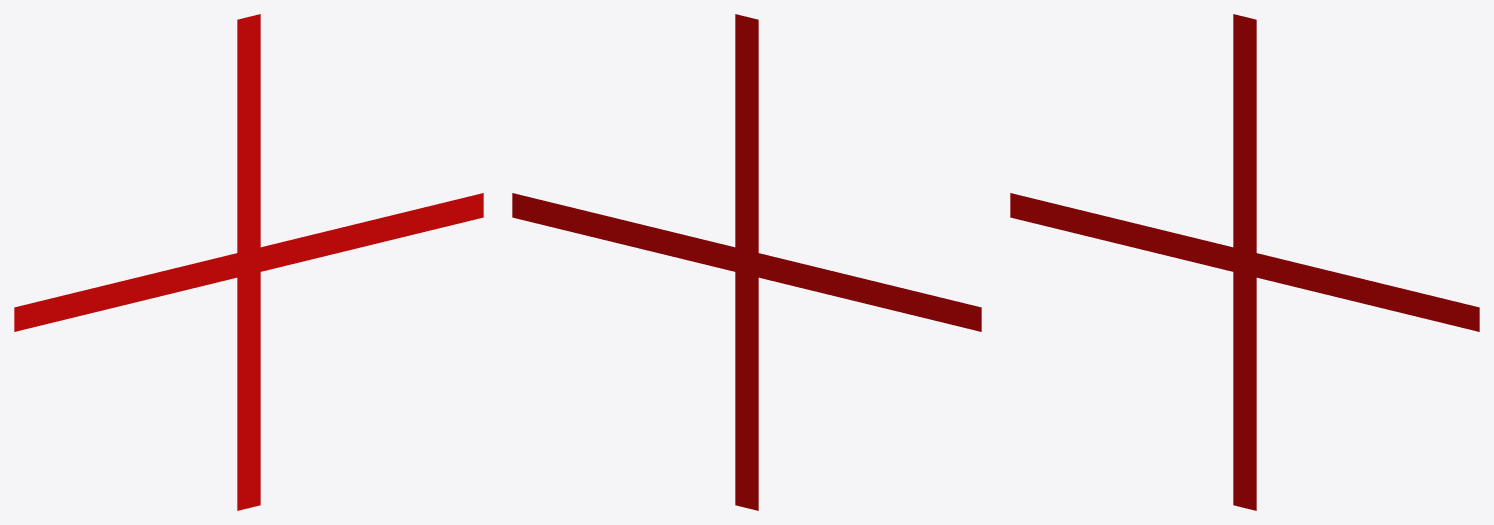
File: crosshair.glb
3 views of the same model, side by side, from view 1: azimuth 30°, elevation 25°; view 2: azimuth 150°, elevation 25°; view 3: azimuth 330°, elevation 25° (orthographic).
Size of the model in its own units: 1 by 1 by 0.
